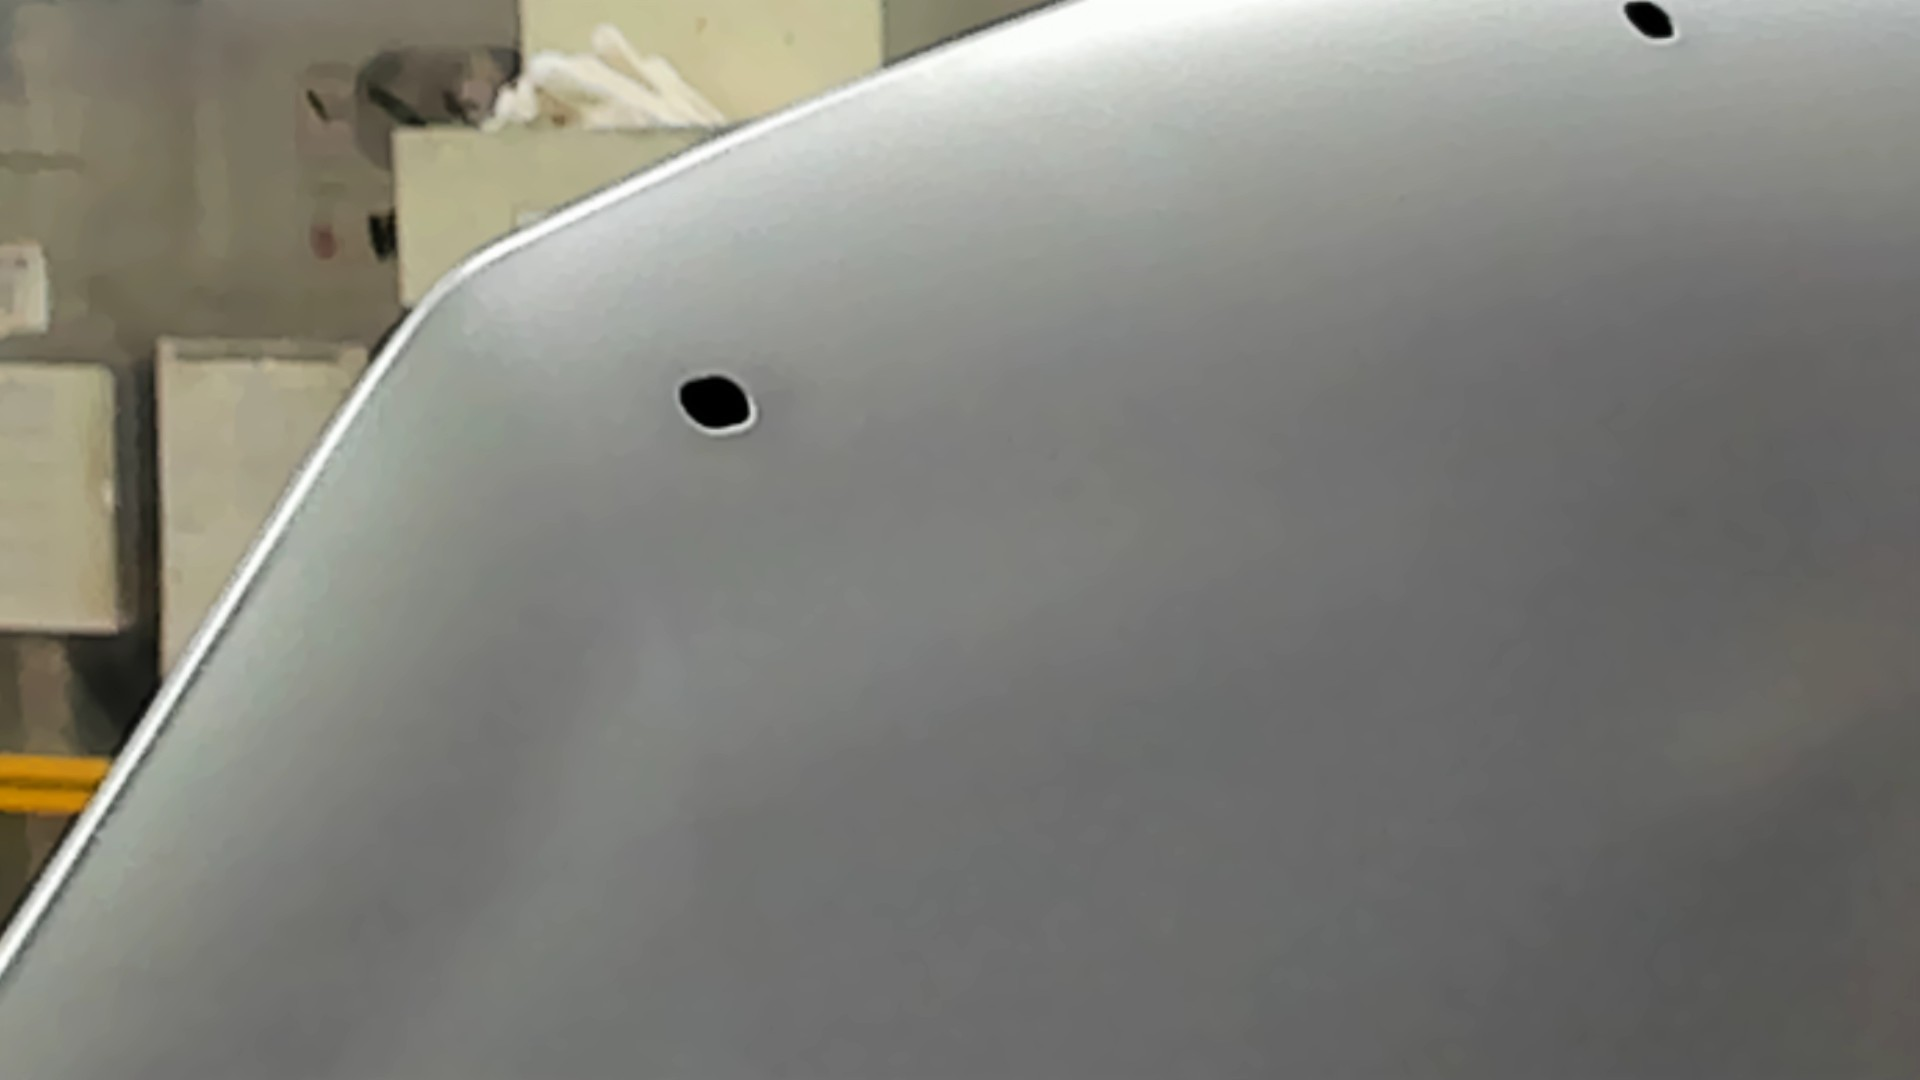amorfo: (671, 368, 767, 447), (1615, 1, 1680, 47)
capo: (827, 128, 1920, 1080)
